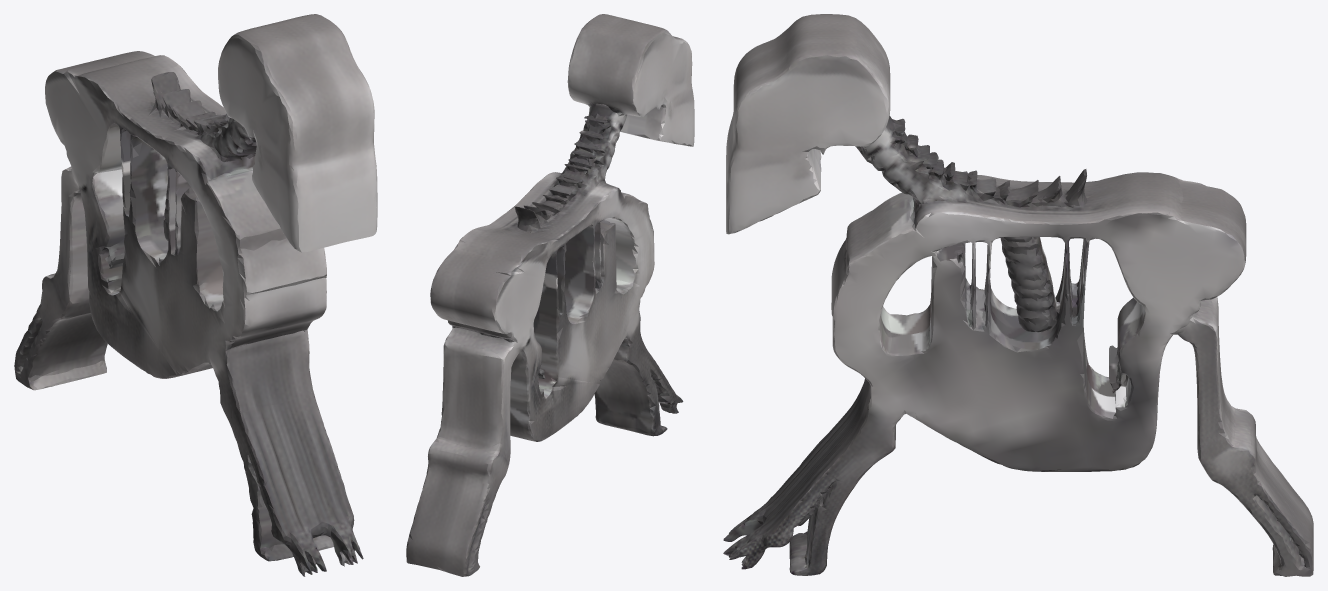
The model's file is xray_abdomen_dog.glb.
3 renders of one model, left to right at view 1: azimuth 30°, elevation 25°; view 2: azimuth 150°, elevation 25°; view 3: azimuth 270°, elevation 25°, orthographic. The views are drawn at different scales.
Parts seen in each view (by area): view 1: model; view 2: model; view 3: model.
Boxes of the visible parts, bbox=[...] form: model: bbox=[14, 14, 377, 576]; model: bbox=[406, 14, 694, 576]; model: bbox=[723, 14, 1313, 576].
Size of the model in its own units: 0.3309 by 1.86 by 1.9.
1 material, 1 textured.
